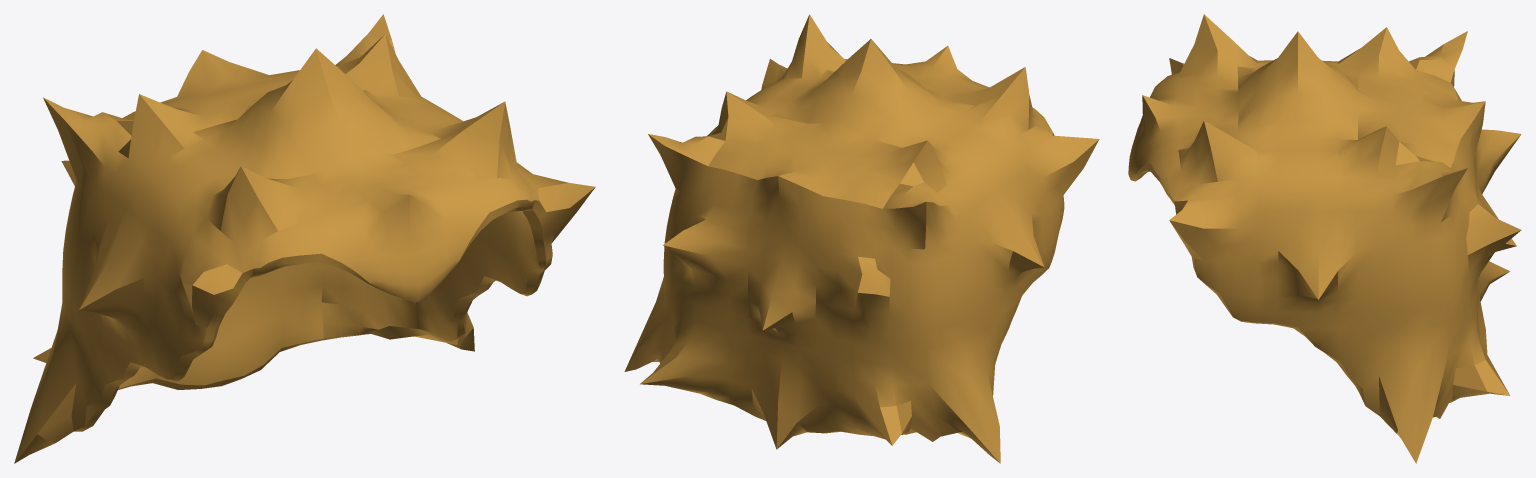
The model's file is HairType2.fbx.
3 views of the same model, side by side, from view 1: azimuth 30°, elevation 25°; view 2: azimuth 150°, elevation 25°; view 3: azimuth 270°, elevation 25° (orthographic). The views are drawn at different scales.
Parts seen in each view (by area): view 1: HairType2; view 2: HairType2; view 3: HairType2.
Boxes of the visible parts, left/top/right/bottom form: HairType2: left=14, top=14, right=595, bottom=463; HairType2: left=624, top=14, right=1099, bottom=463; HairType2: left=1128, top=14, right=1521, bottom=463.
Bounding box in the file's own units: 273 × 237 × 245.
